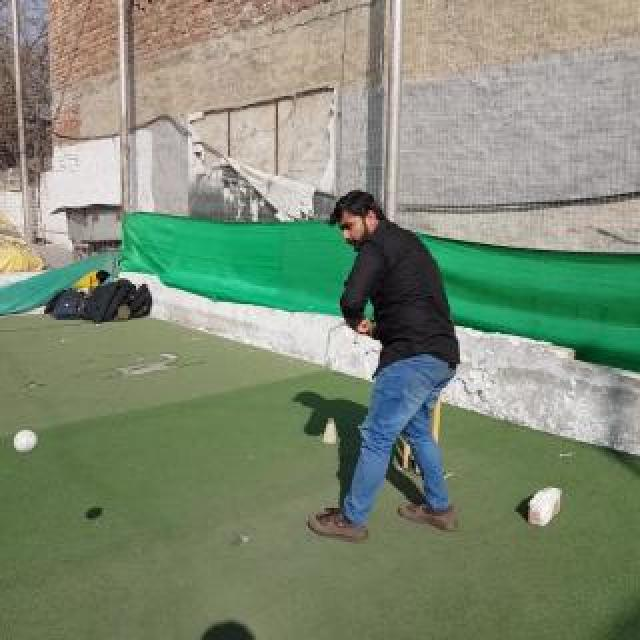ball: (14, 429, 38, 453)
